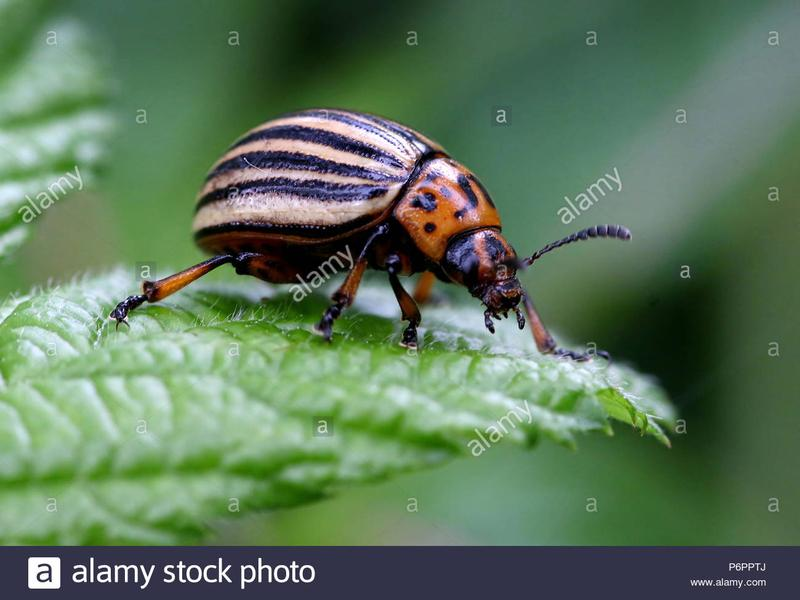hrosc: (187, 93, 543, 345)
